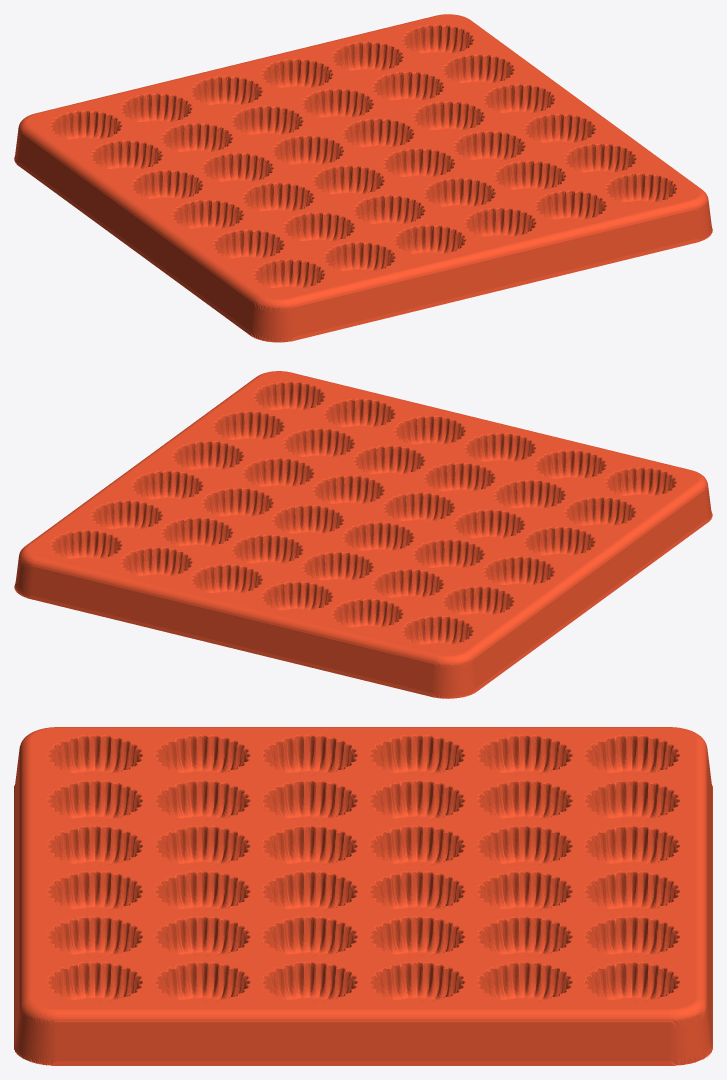
Rendered from mold.glb.
The picture shows the model from 3 angles, top to bottom: view 1: azimuth 30°, elevation 25°; view 2: azimuth 150°, elevation 25°; view 3: azimuth 270°, elevation 25°; orthographic projection. The views are drawn at different scales.
Visible parts, largest first — view 1: geometry_0; view 2: geometry_0; view 3: geometry_0.
Part boxes in pixels (bbox=[...]): geometry_0: bbox=[14, 14, 712, 342]; geometry_0: bbox=[14, 371, 712, 698]; geometry_0: bbox=[14, 727, 712, 1065].
Size of the model in its own units: 0.1447 by 0.0114 by 0.1447.
